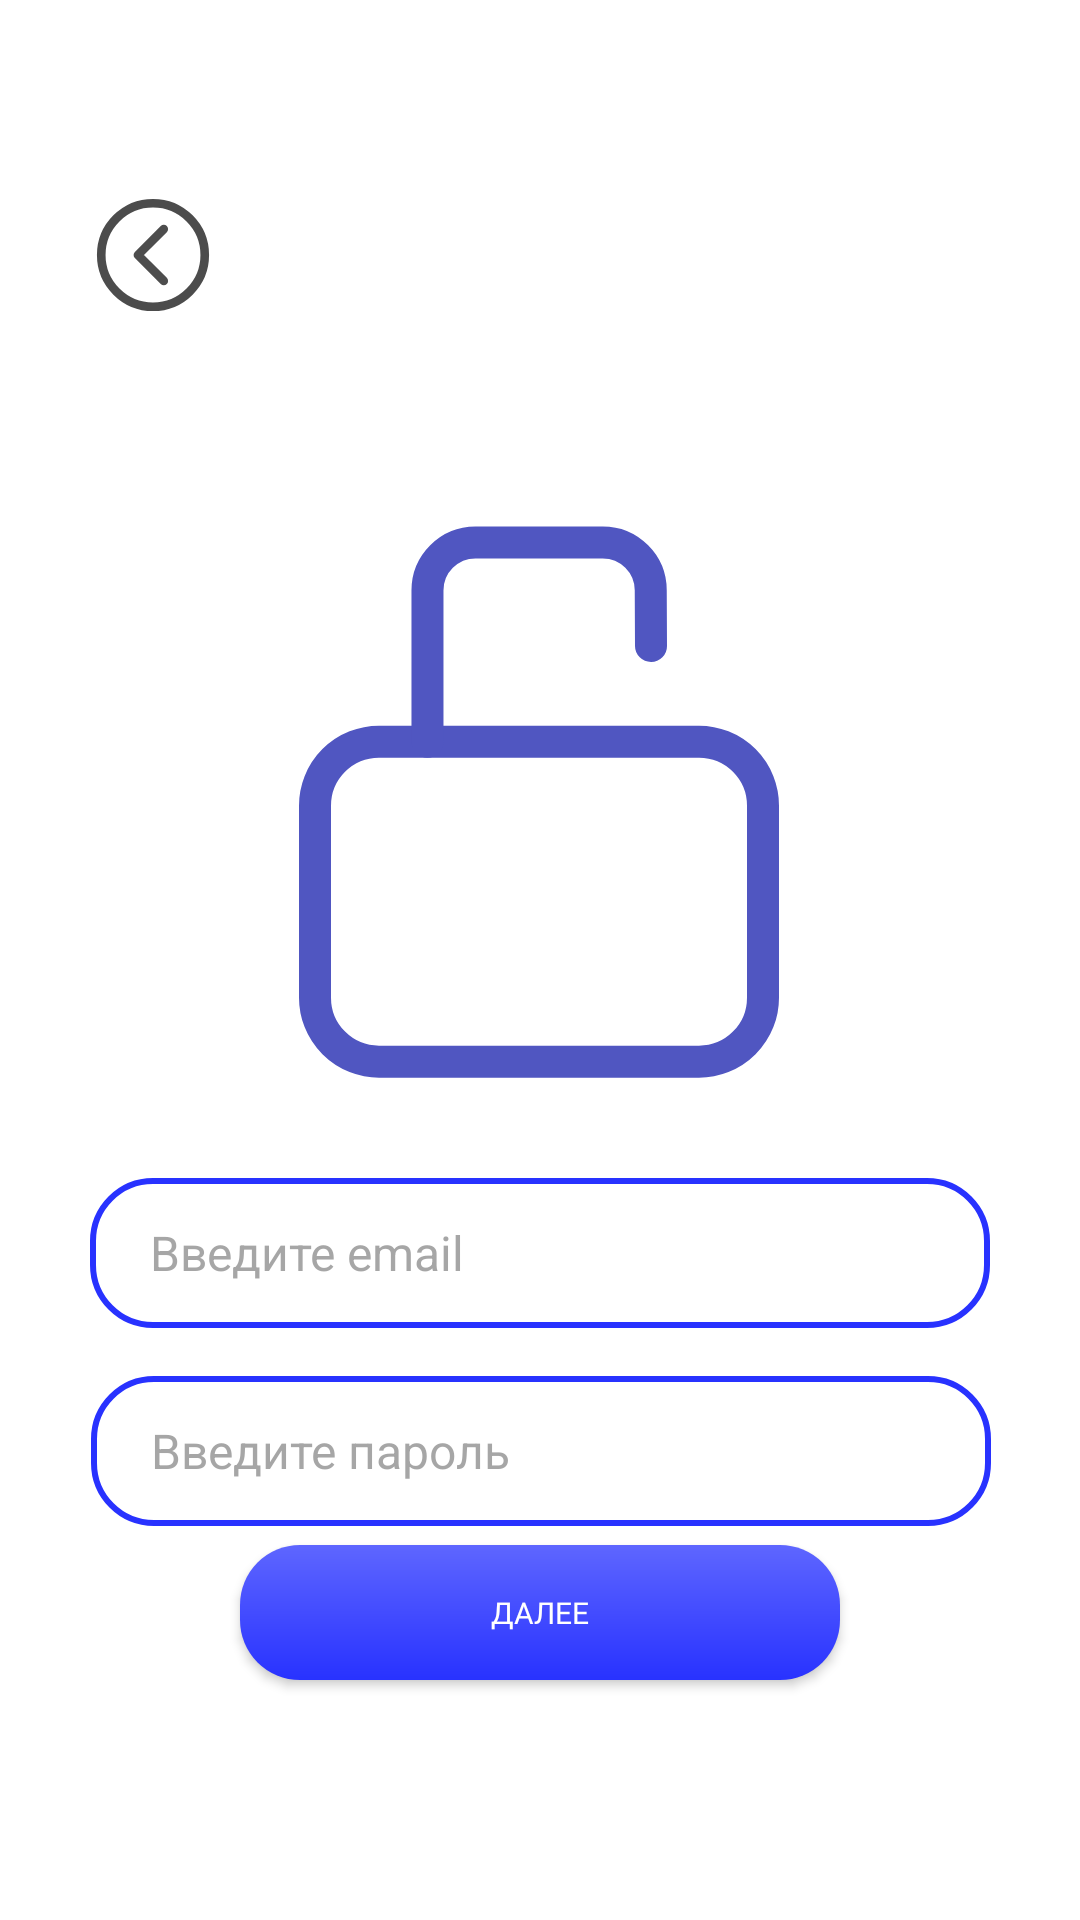

Icon bounding boxes for this 1080px×1920px phone screenshot, format [x1=x1, y1=y1, x2=x2, y2=y2]:
back arrow: [x1=97, y1=199, x2=209, y2=311]
